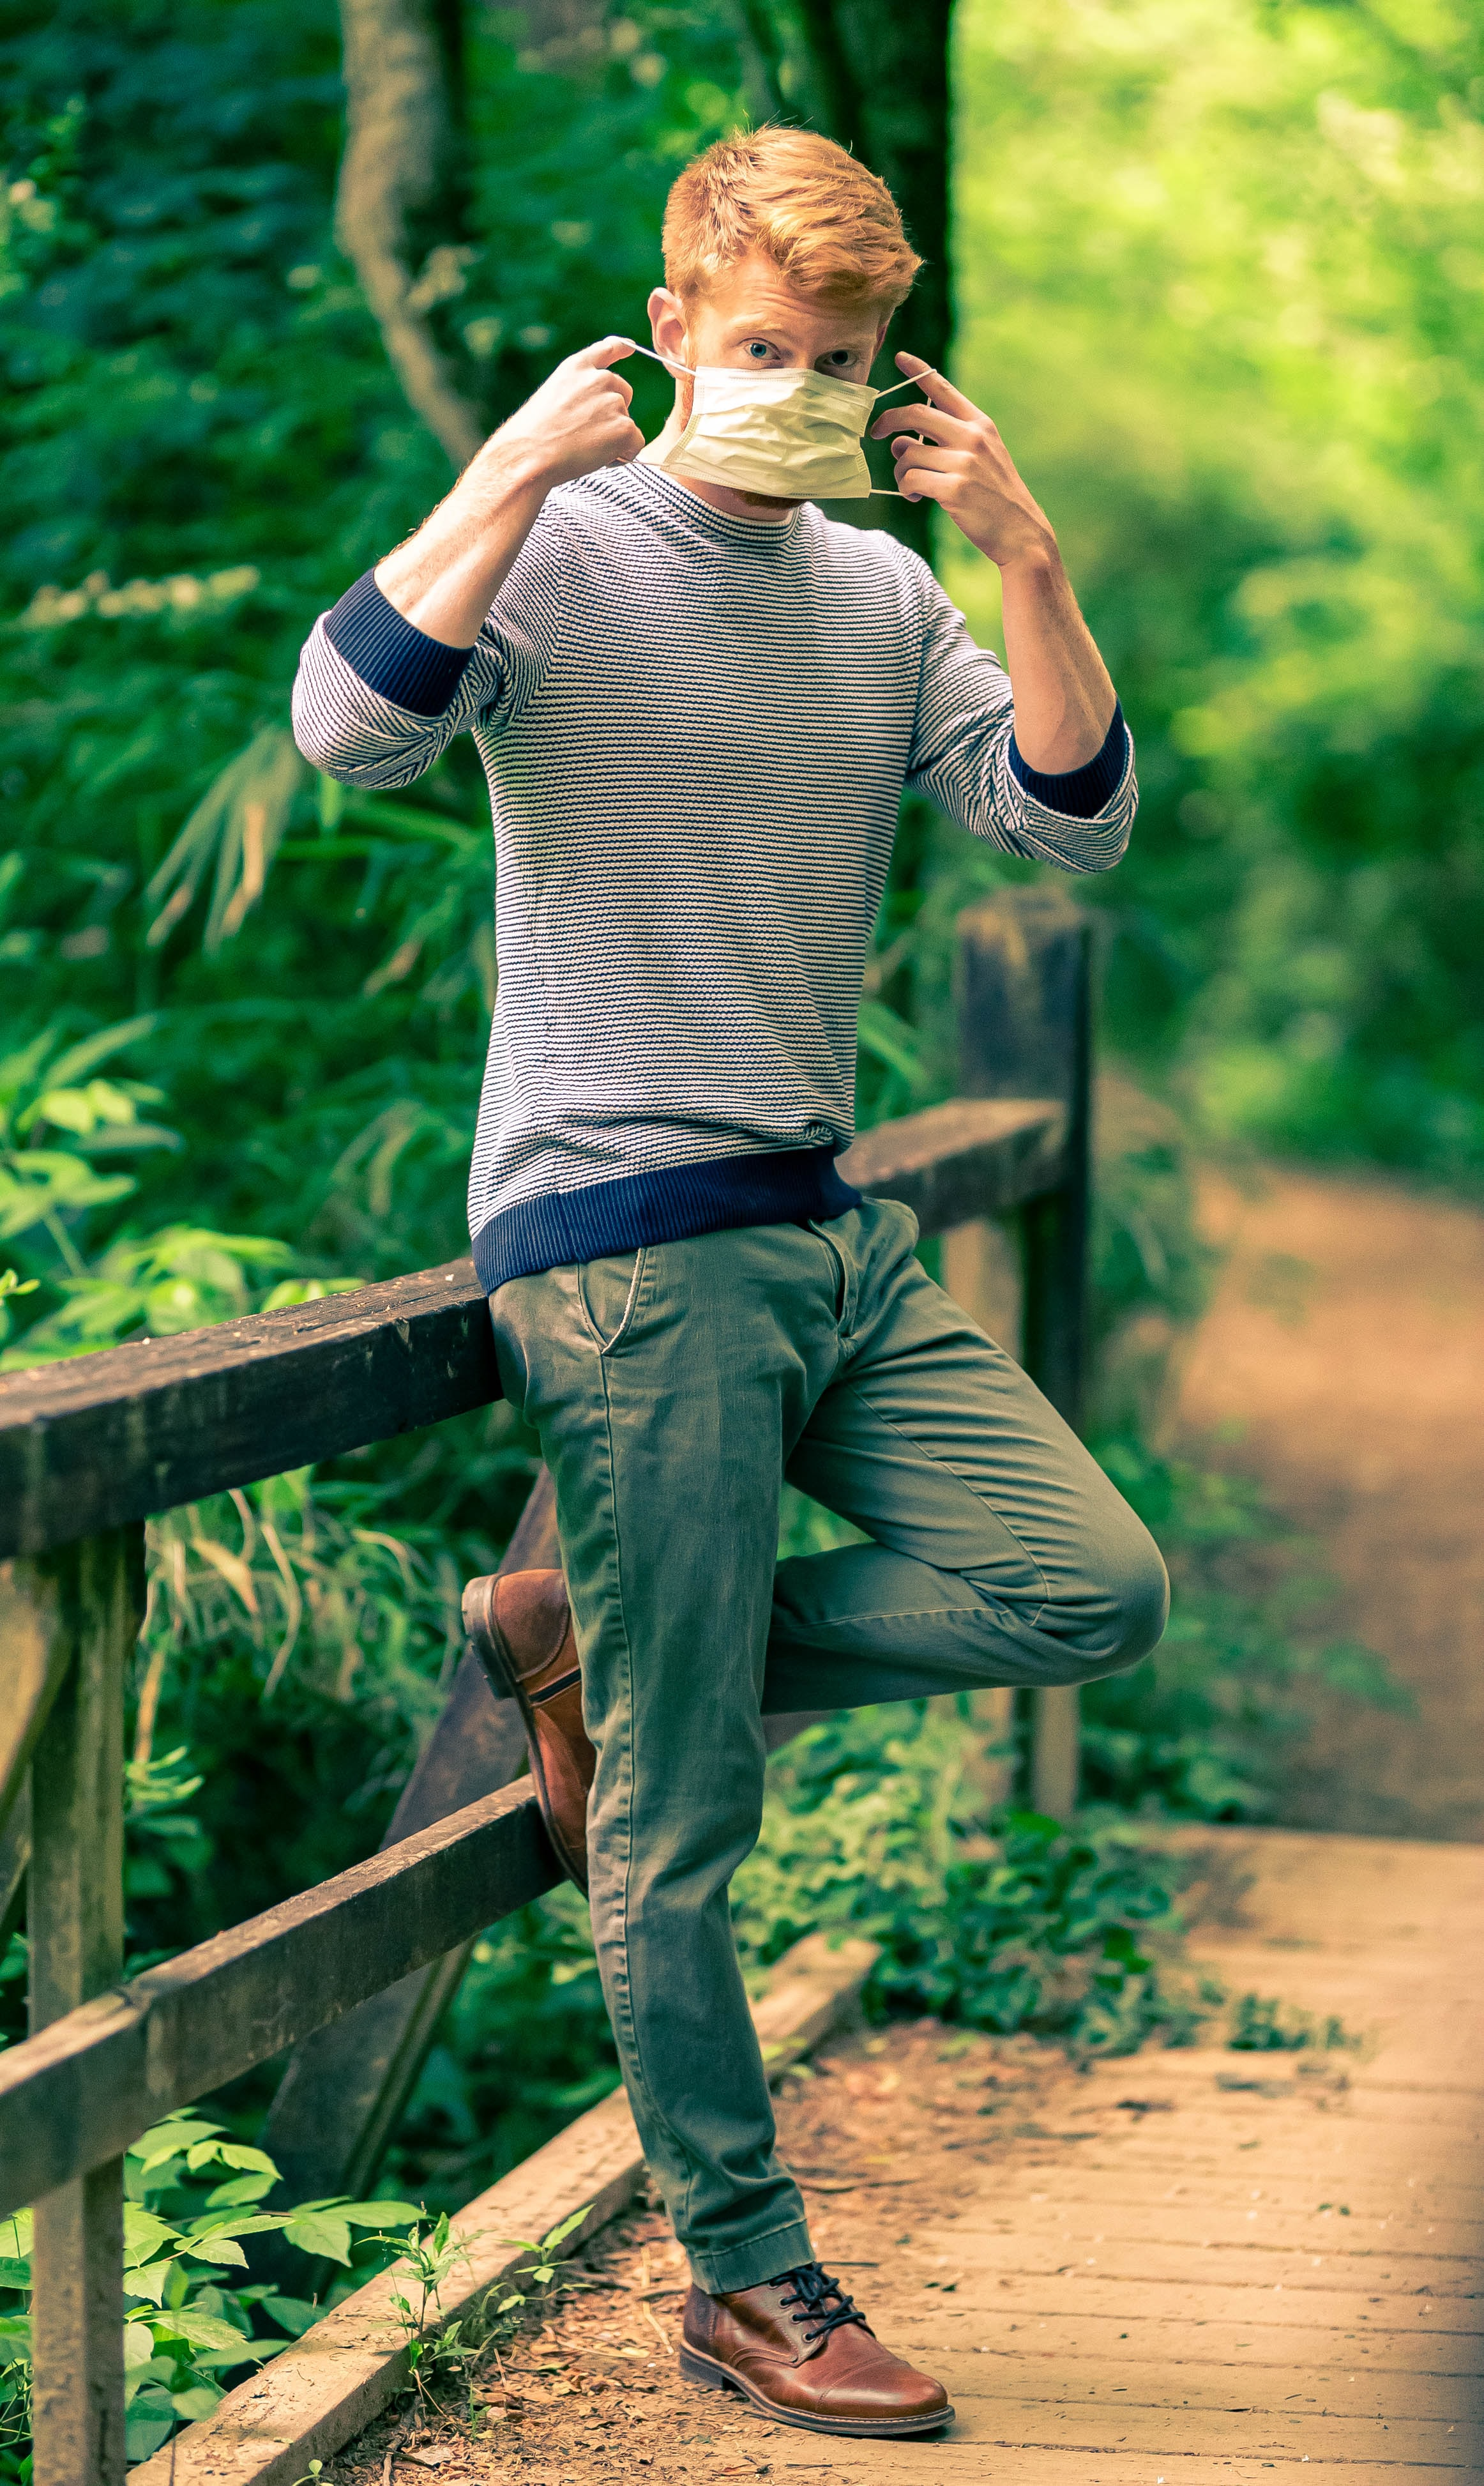mask: (603, 350, 934, 519)
person: (254, 119, 1214, 2485)
